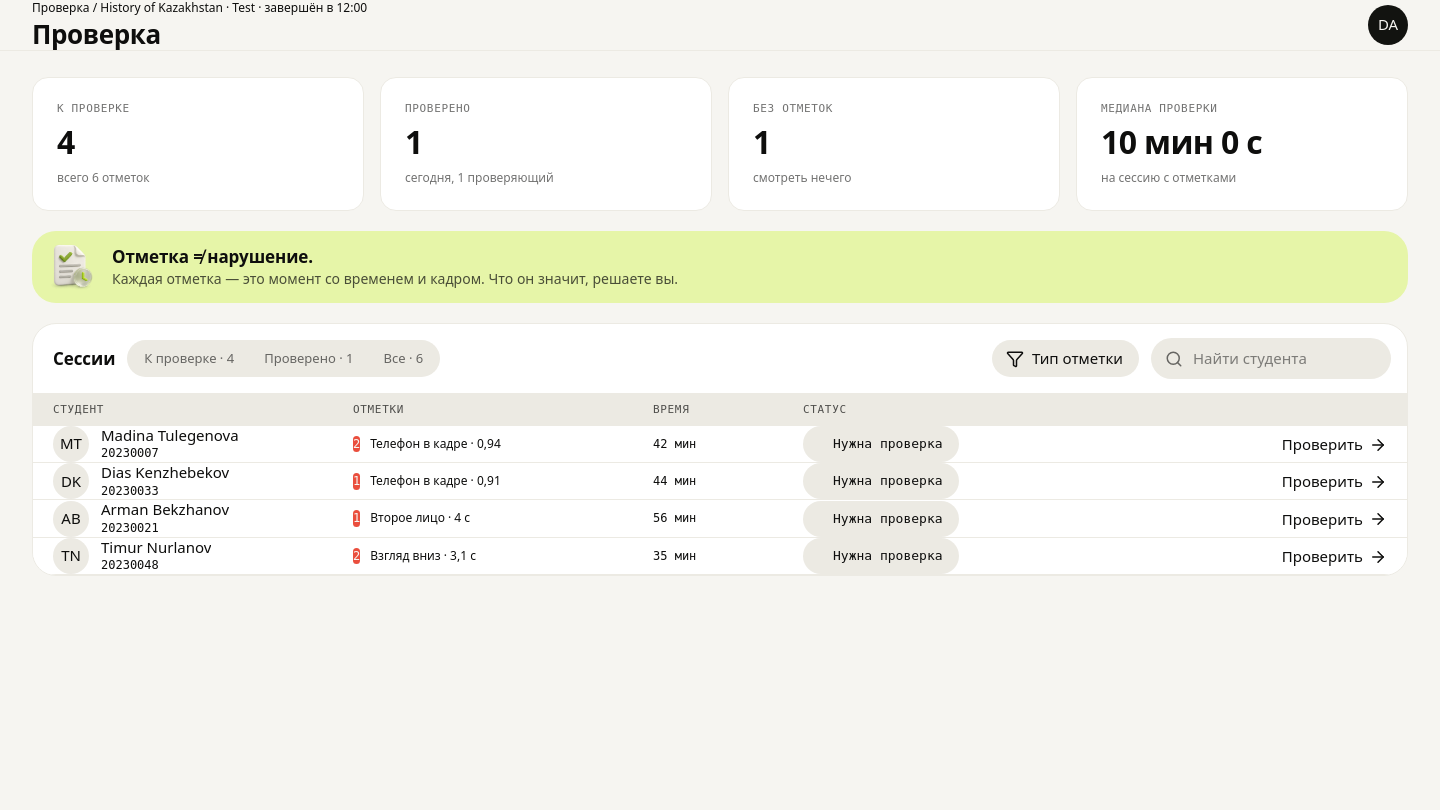
3.2 and 3.3 in Russian › renders 3.2 with 3.2a open
The width and height of the screenshot is (1440, 810).
Expected: the heading "Проверка" is shown, [32,19,161,50]
Expected: the heading "Отметка ≠ нарушение." is shown, [112,246,313,268]
What coordinates should you click on to do the following:
click the radio button labelled "Проверено · 1"
I would click on:
 (309, 359)
Its box is [250,343,368,374].
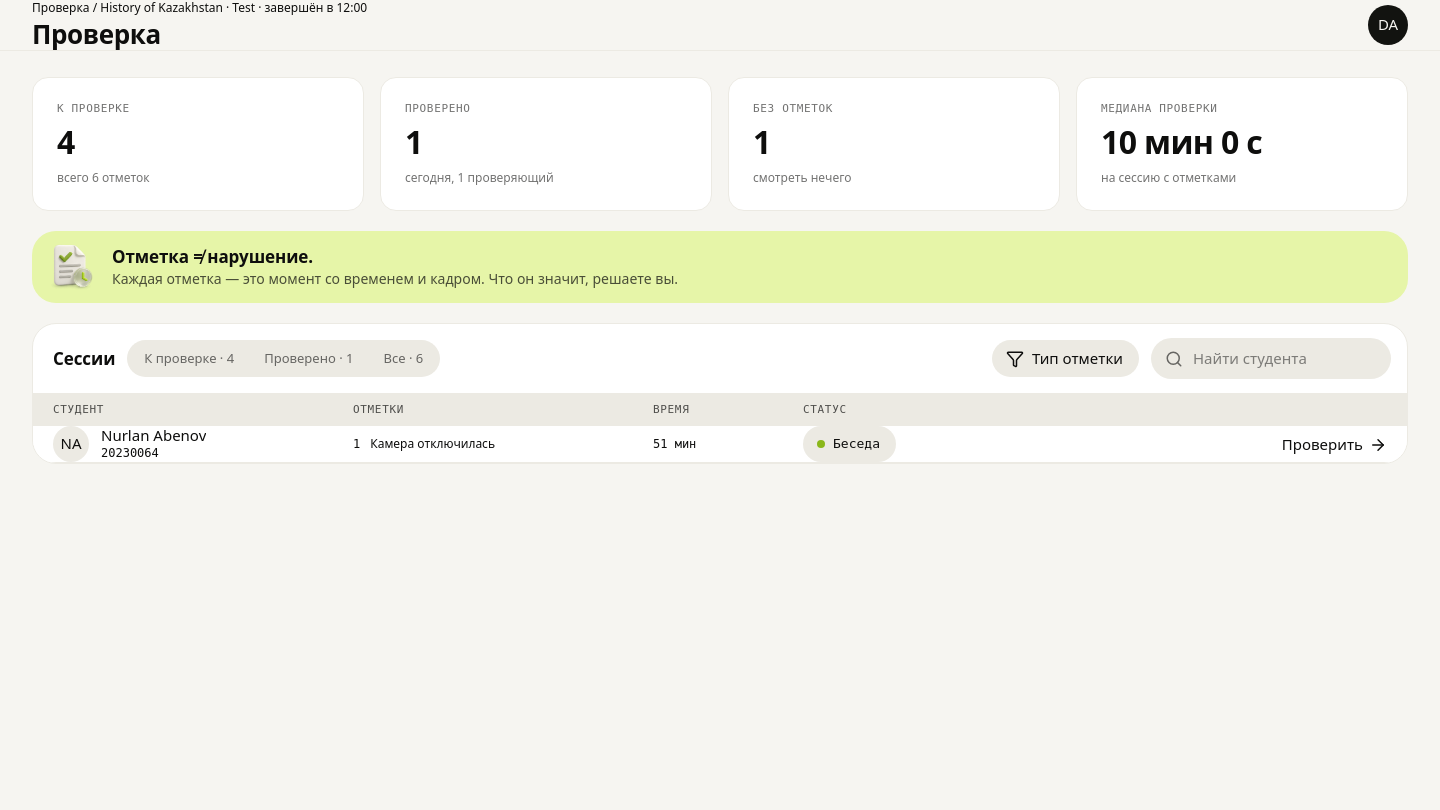
Expected: the row that starts with "Nurlan Abenov" shows "Беседа", [833,436,880,451]
What coordinates should you click on to do the following:
click the button "Тип отметки"
I would click on:
 (1066, 359)
Its box is [992,340,1139,377].
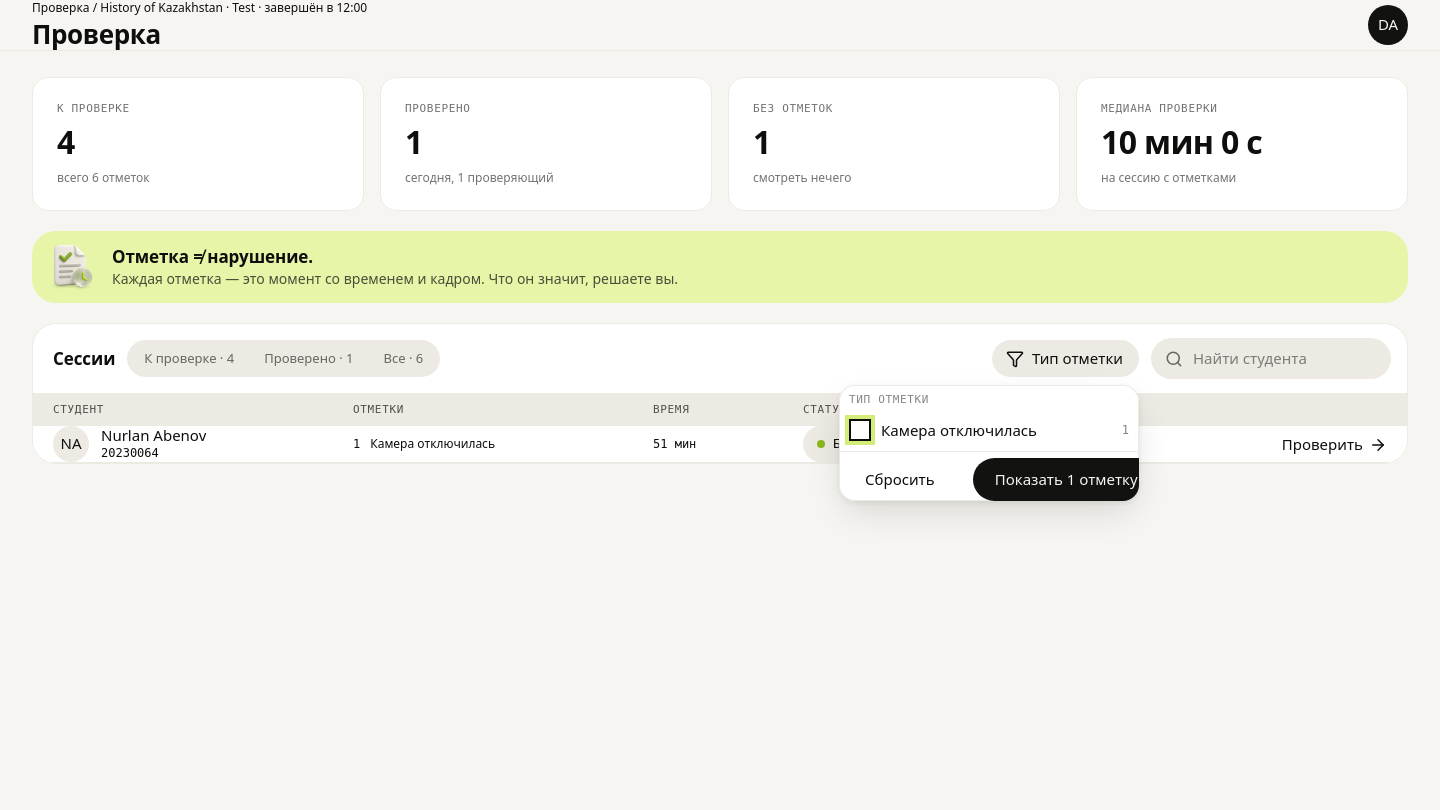
Expected: the text "Проверка / History of Kazakhstan · Test · завершён в 12:00" is shown, [32,0,367,17]
Expected: the text "Показать 1 отметку" is shown, [995,470,1138,489]
